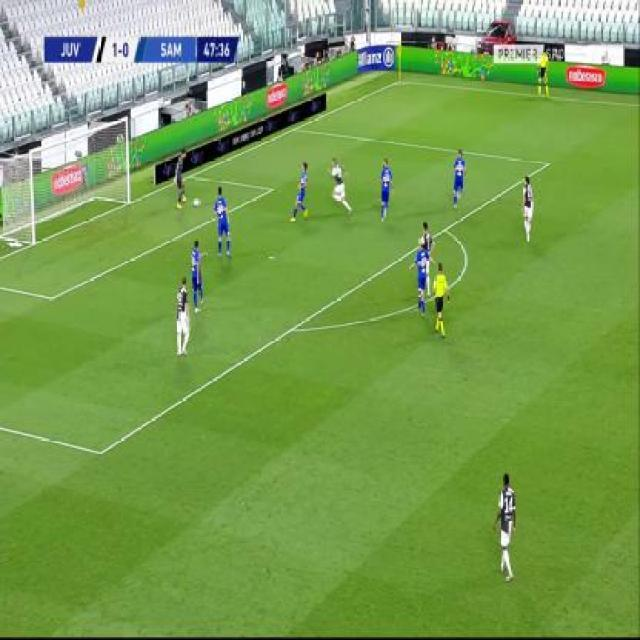ball: (192, 197, 200, 208)
player: (493, 468, 518, 581), (327, 156, 353, 218), (410, 238, 430, 317), (432, 260, 451, 339), (214, 183, 233, 262), (175, 273, 192, 358), (290, 161, 310, 224), (190, 236, 206, 310), (451, 147, 468, 209), (378, 156, 394, 221), (521, 172, 535, 241), (173, 147, 187, 210), (535, 46, 551, 99), (422, 221, 435, 264)
